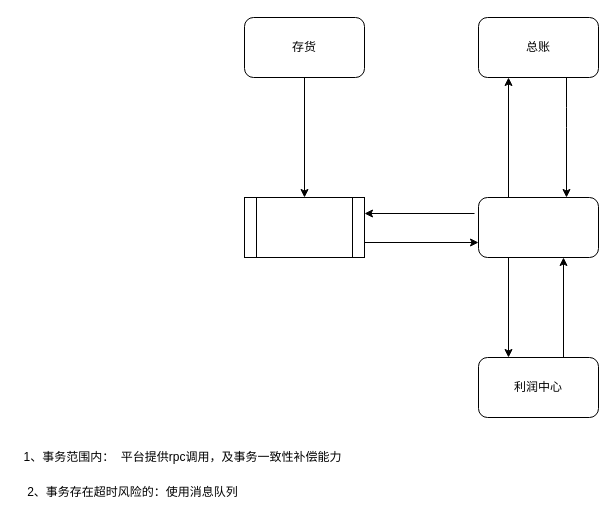
Image size: 616x520. Some labels were removed from this diagram. The centre of each missing label's shape, as x and y in pixels:
"会计平台" goes at (x=538, y=227).
"成本管理" goes at (x=304, y=227).
